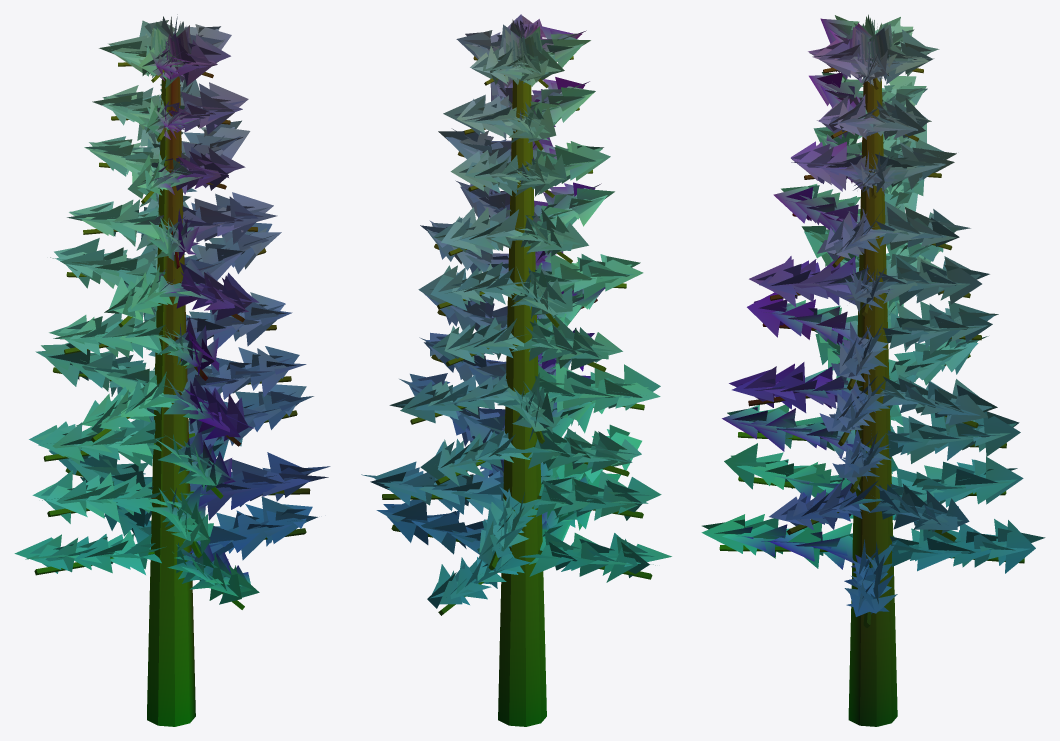
Rendered from mature_conifer_04.glb.
3 views of the same model, side by side, from view 1: azimuth 30°, elevation 25°; view 2: azimuth 150°, elevation 25°; view 3: azimuth 270°, elevation 25° (orthographic).
Parts seen in each view (by area): view 1: mature_conifer_04; view 2: mature_conifer_04; view 3: mature_conifer_04.
Boxes of the visible parts, x1,y1,x2,y2 form: mature_conifer_04: [14, 14, 330, 726]; mature_conifer_04: [361, 14, 671, 726]; mature_conifer_04: [701, 14, 1045, 726].
Bounding box in the file's own units: 7.68 × 17.21 × 7.73.
